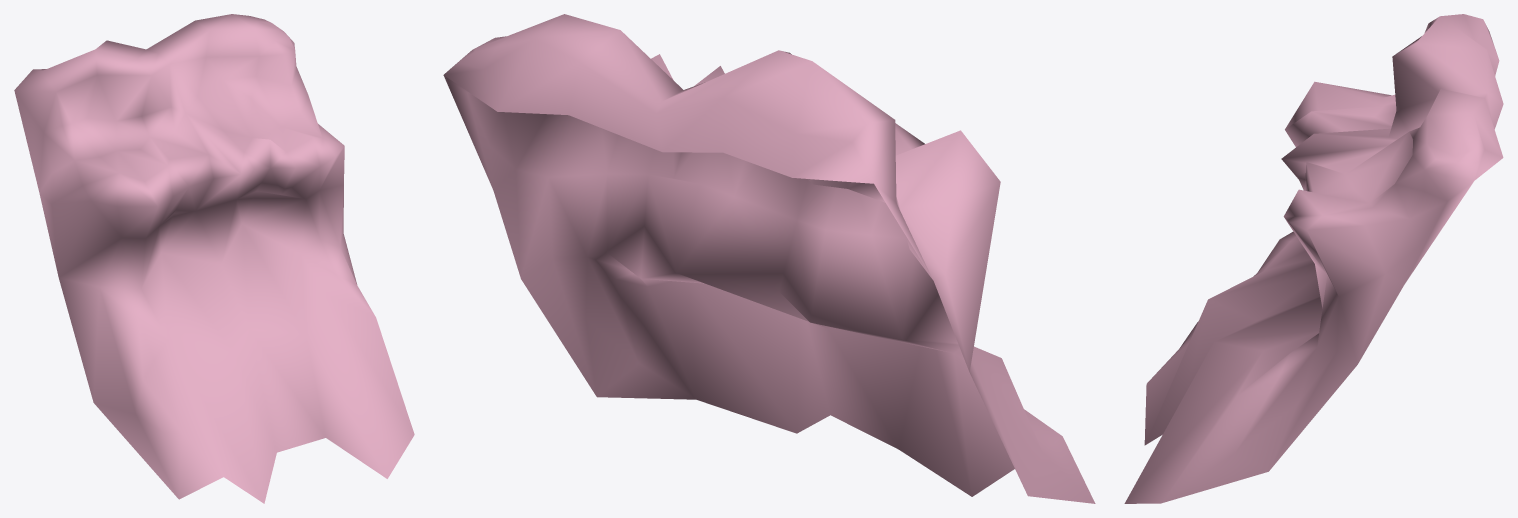
The model's file is ytlds_Object (21).fbx.
The picture shows the model from 3 angles, left to right: view 1: azimuth 30°, elevation 25°; view 2: azimuth 150°, elevation 25°; view 3: azimuth 270°, elevation 25°; orthographic projection. The views are drawn at different scales.
Parts seen in each view (by area): view 1: Object21; view 2: Object21; view 3: Object21.
Boxes of the visible parts, x1,y1,x2,y2 form: Object21: (14,14,414,503); Object21: (443,14,1095,503); Object21: (1124,14,1503,503).
Bounding box in the file's own units: 461 × 583 × 490.
